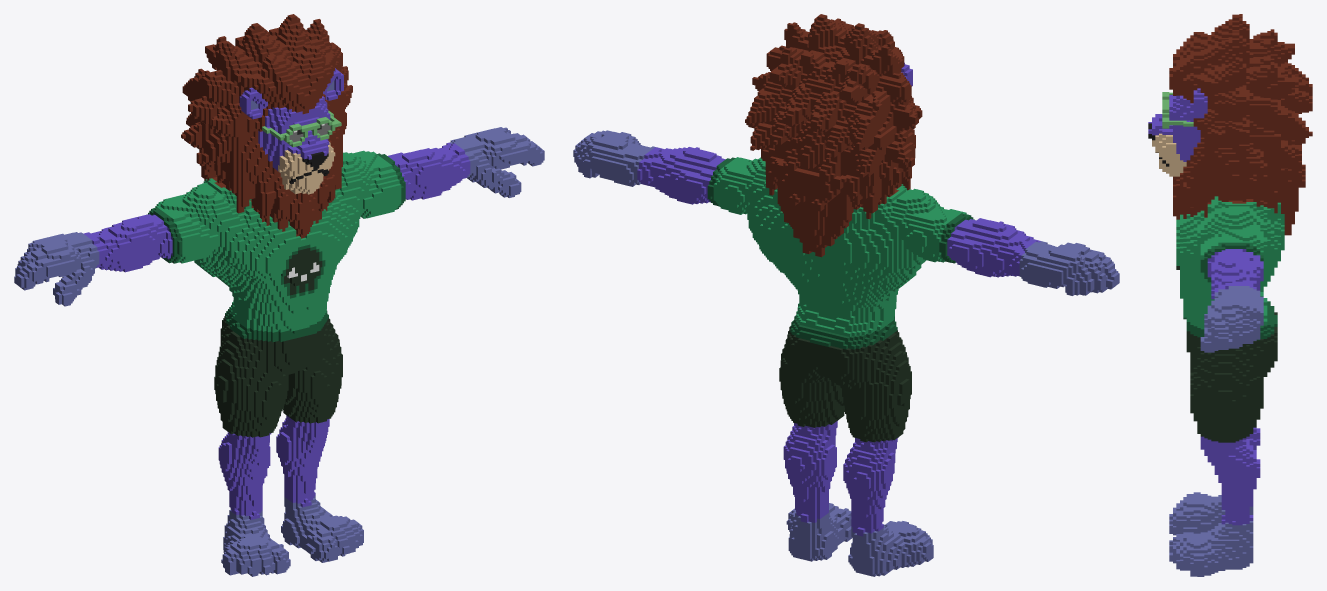
Rendered from 66-ChzZ1Gcl.glb.
3 views of the same model, side by side, from view 1: azimuth 30°, elevation 25°; view 2: azimuth 150°, elevation 25°; view 3: azimuth 270°, elevation 25° (orthographic). The views are drawn at different scales.
Parts seen in each view (by area): view 1: sad; view 2: sad; view 3: sad.
Boxes of the visible parts, box(x1,y1,x2,y2) form: sad: box(14, 14, 544, 576); sad: box(573, 14, 1119, 576); sad: box(1148, 14, 1312, 576).
Bounding box in the file's own units: 17.2 × 16.5 × 4.7.
Materials: 5 (5 with a texture image).
